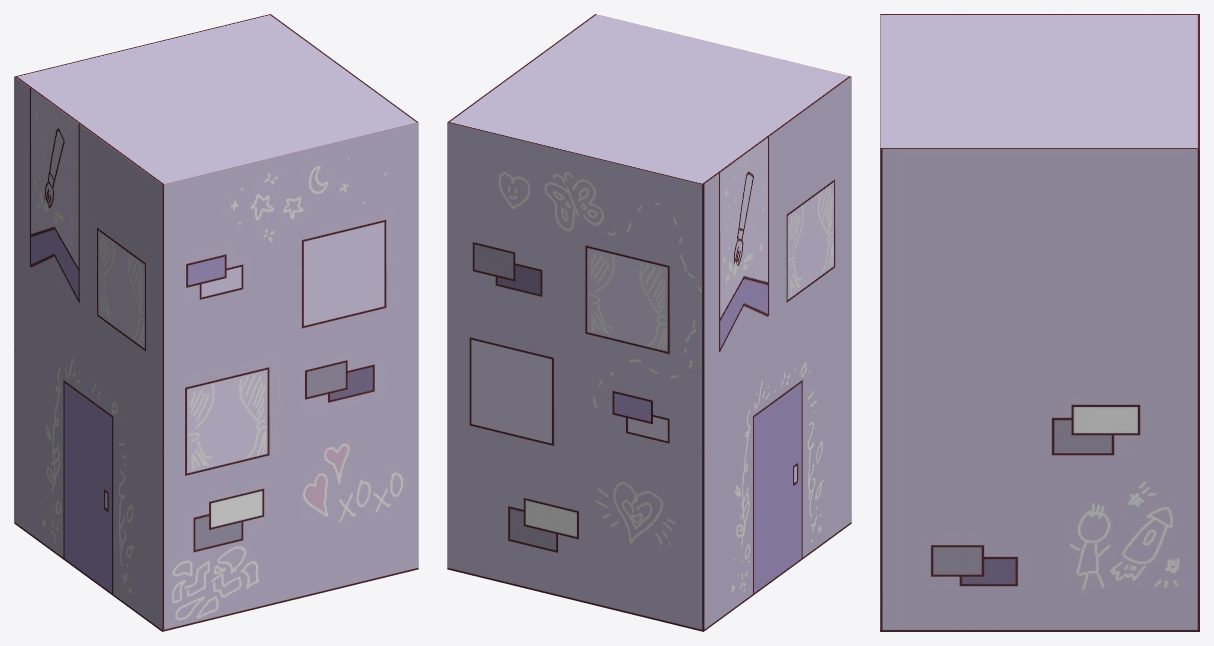
Rendered from Building_doodle.fbx.
The picture shows the model from 3 angles, left to right: view 1: azimuth 30°, elevation 25°; view 2: azimuth 150°, elevation 25°; view 3: azimuth 270°, elevation 25°; orthographic projection. The views are drawn at different scales.
Parts seen in each view (by area): view 1: Box001; view 2: Box001; view 3: Box001.
Part boxes in pixels (left/top/right/bottom): Box001: left=14, top=14, right=418, bottom=631; Box001: left=447, top=14, right=851, bottom=631; Box001: left=880, top=14, right=1199, bottom=631.
Bounding box in the file's own units: 360 × 600 × 360.
1 material, 1 textured.
